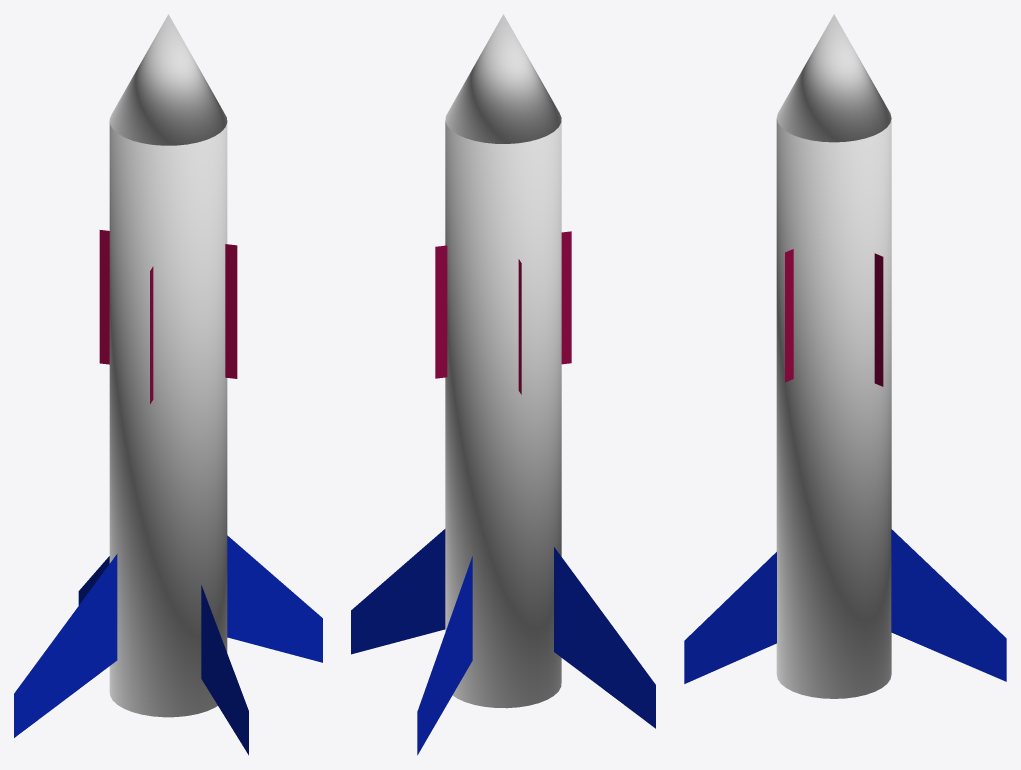
File: Rocket.fbx
3 views of the same model, side by side, from view 1: azimuth 30°, elevation 25°; view 2: azimuth 150°, elevation 25°; view 3: azimuth 270°, elevation 25° (orthographic). The views are drawn at different scales.
Visible parts, largest first — view 1: Cylinder; view 2: Cylinder; view 3: Cylinder.
Boxes of the visible parts, <box> form: Cylinder: <box>14,14,322,755</box>; Cylinder: <box>351,14,655,755</box>; Cylinder: <box>684,14,1006,698</box>.
Size of the model in its own units: 6.79 by 14.42 by 6.31.
